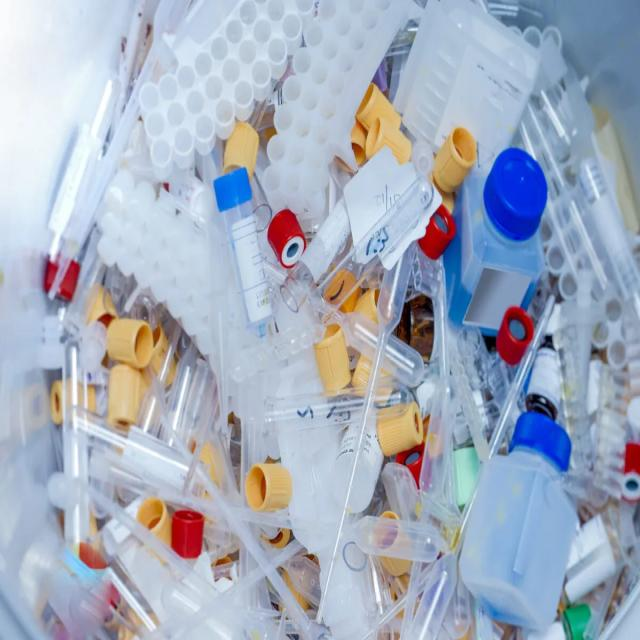Medical Waste: (33, 42, 631, 640)
